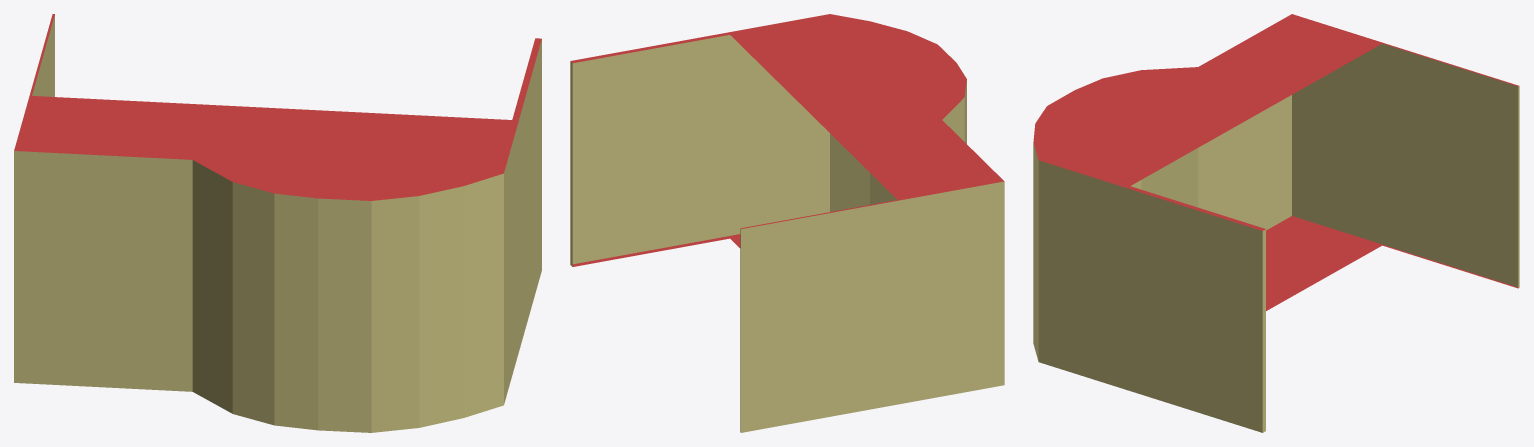
3 renders of one model, left to right at view 1: azimuth 30°, elevation 25°; view 2: azimuth 150°, elevation 25°; view 3: azimuth 270°, elevation 25°, orthographic. The views are drawn at different scales.
Size of the model in its own units: 14.82 by 14.02 by 6.43.
